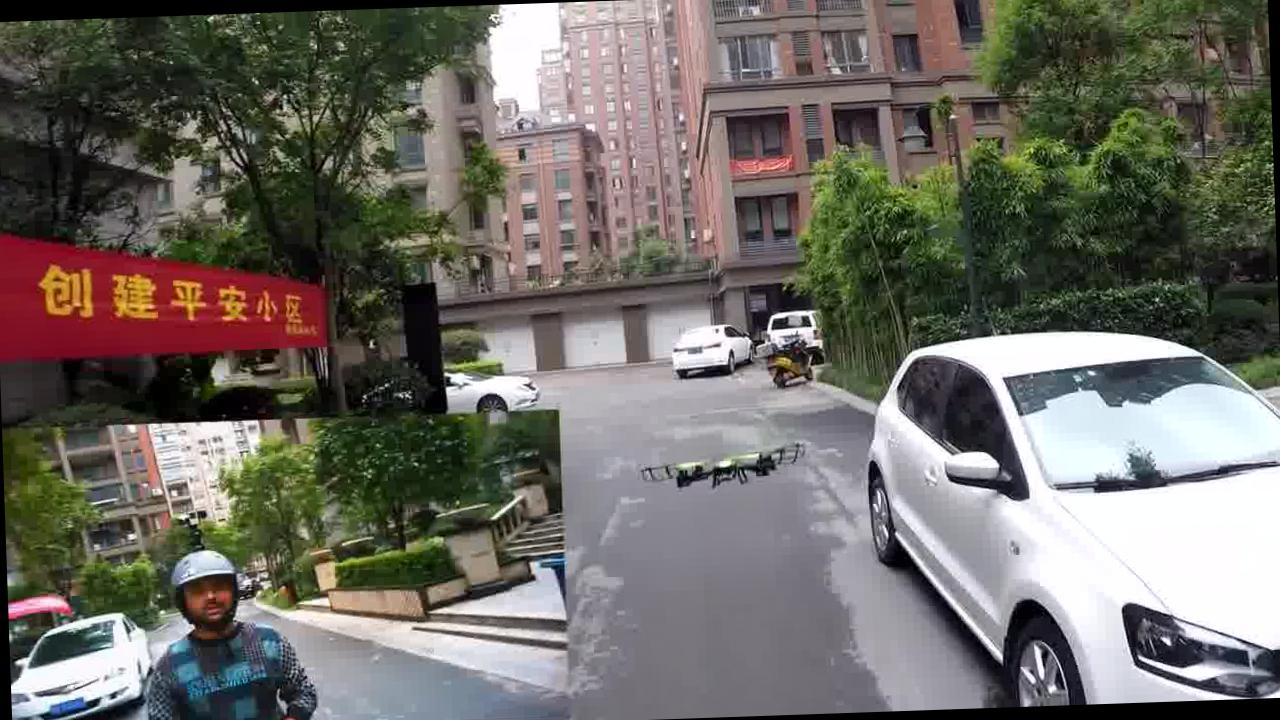drone: (642, 430, 812, 519)
